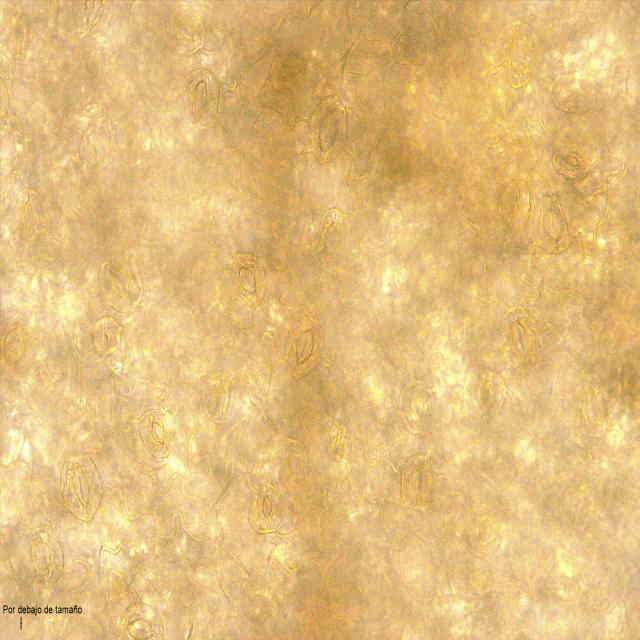Stomata: (494, 19, 541, 90), (59, 451, 103, 523), (500, 304, 544, 376), (308, 93, 350, 167), (20, 525, 66, 588), (284, 314, 326, 380), (532, 193, 576, 255), (98, 256, 145, 314), (180, 67, 222, 129), (401, 453, 442, 512), (10, 188, 48, 246), (163, 5, 206, 56), (466, 368, 508, 420), (398, 376, 434, 436), (201, 370, 240, 424), (496, 180, 534, 234), (230, 252, 268, 306), (137, 408, 177, 459), (246, 483, 284, 536), (550, 142, 593, 184), (119, 601, 164, 640), (466, 507, 502, 555), (72, 0, 115, 37), (91, 316, 121, 356)
